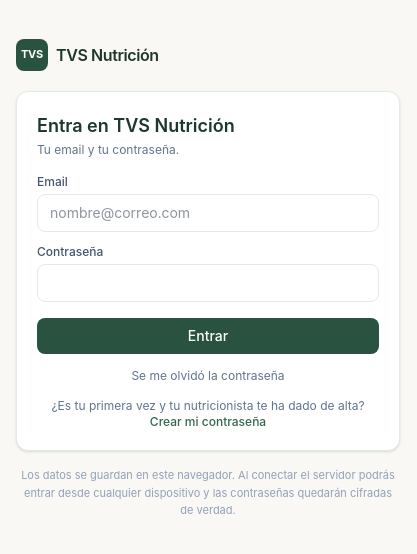
Pantalla de acceso › entrar con datos que no cuadran lo dice sin pistas de más
The image size is (417, 554).
Type "tats@correo.com" into the field labelled "Email" at (208, 213), box [37,194,379,232]
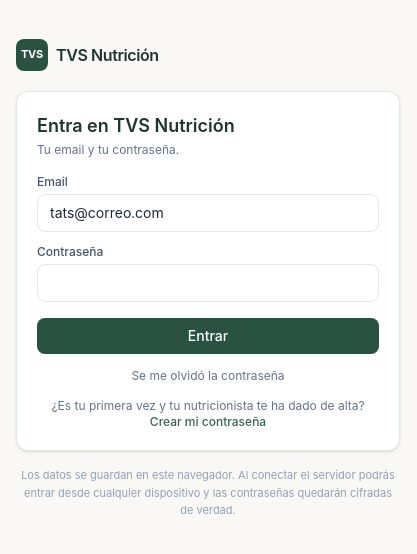
Type "otracosa" into the password field labelled "Contraseña" at (208, 283), box [37,264,379,302]
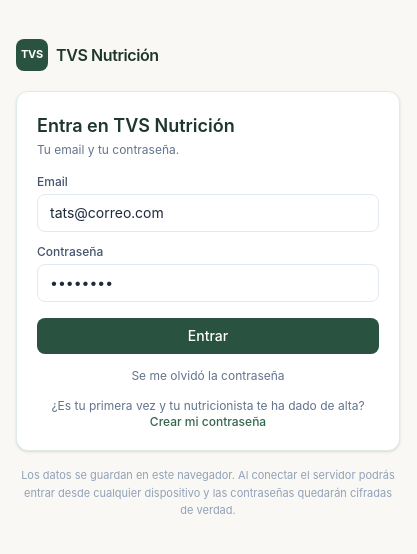
Click the button "Entrar" at (208, 336), box [37,318,379,354]
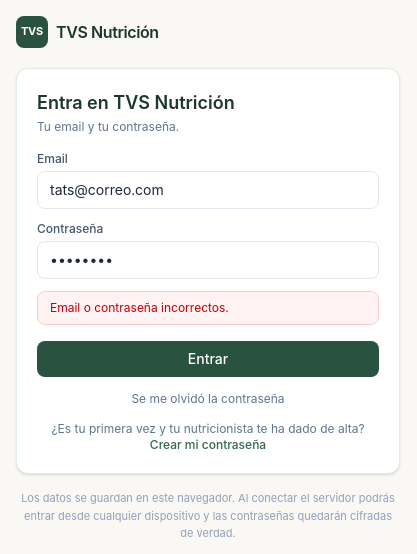
Expected: the text "Email o contraseña incorrectos." is shown, [37,291,379,325]
